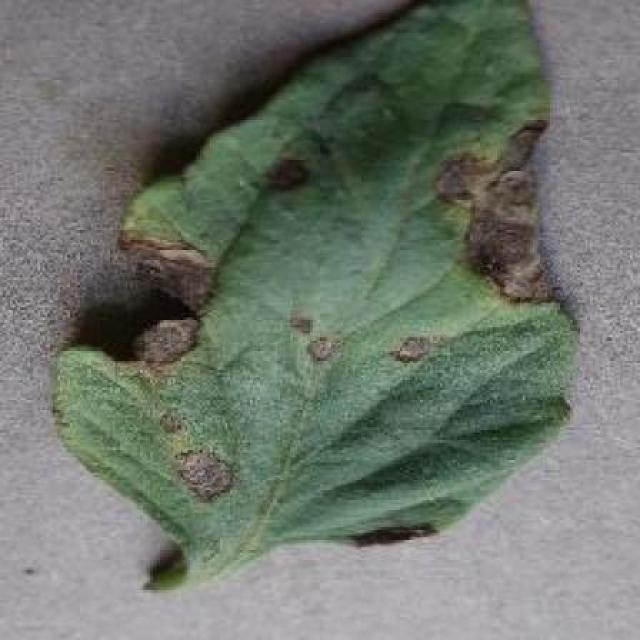Early Blight: (50, 0, 580, 546)
